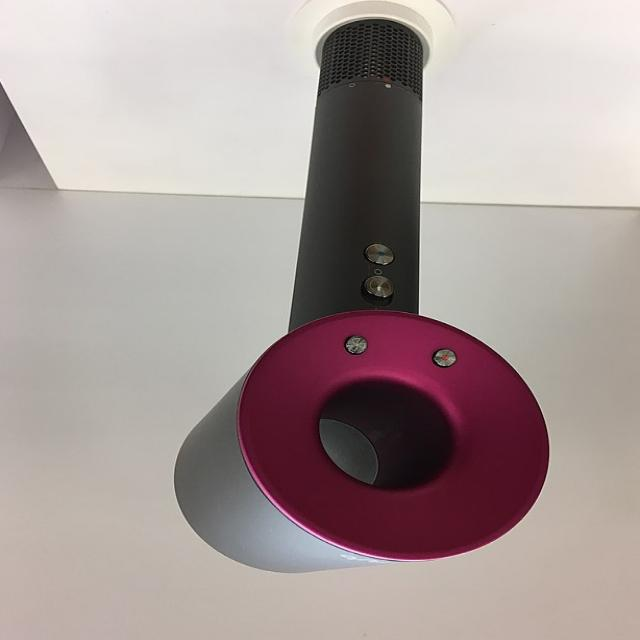dryer: (172, 15, 555, 576)
